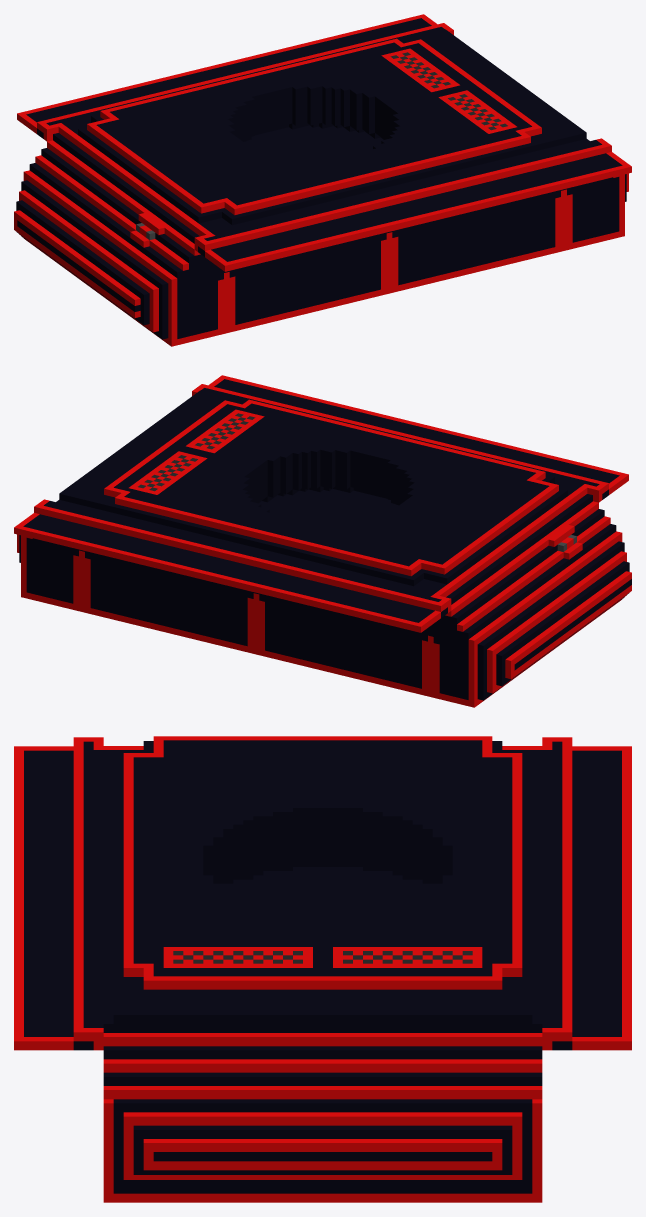
Rendered from NeonLightTankEnemy-3.obj.
The picture shows the model from 3 angles, top to bottom: view 1: azimuth 30°, elevation 25°; view 2: azimuth 150°, elevation 25°; view 3: azimuth 270°, elevation 25°; orthographic projection. The views are drawn at different scales.
Size of the model in its own units: 8.5 by 1.9 by 6.2.
1 material, 1 textured.
